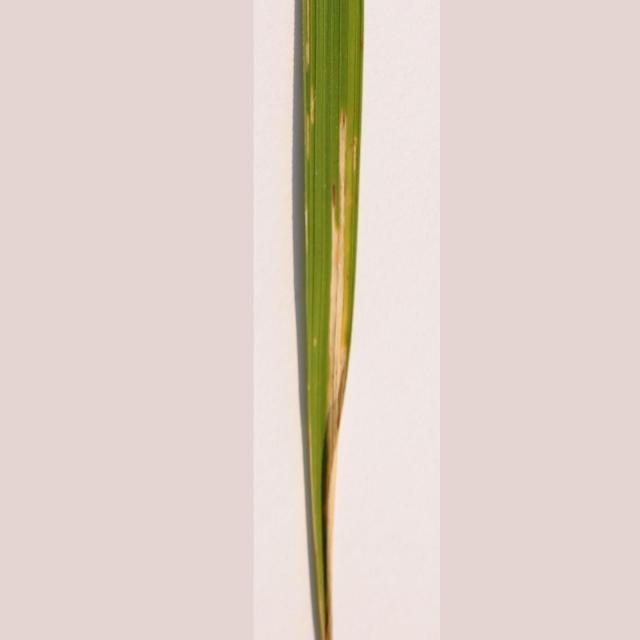Bacterial leaf blight: (290, 0, 365, 640)
